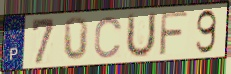0: (62, 16, 89, 63)
7: (31, 18, 56, 67)
9: (194, 8, 219, 55)
C: (93, 15, 124, 60)
F: (158, 10, 190, 57)
U: (124, 11, 158, 60)
